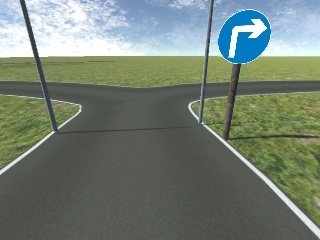TRight: (216, 7, 273, 65)
